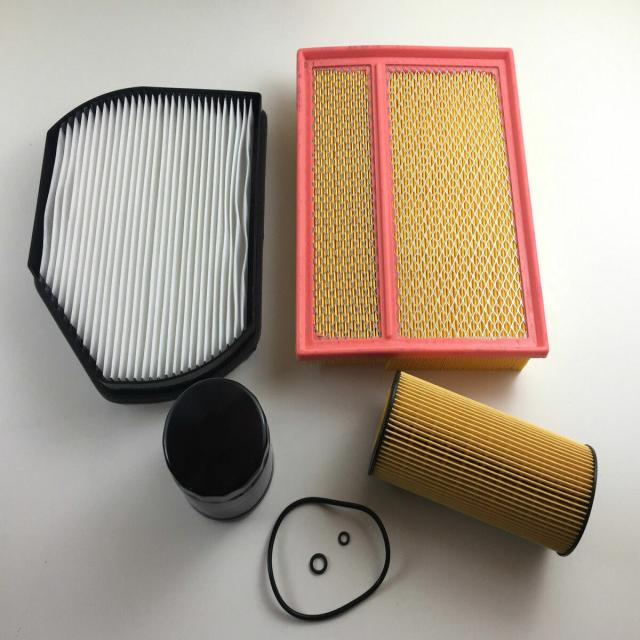air_filter: (294, 44, 552, 370), (22, 83, 271, 378)
oil_filter: (374, 373, 604, 561), (164, 384, 275, 528)
